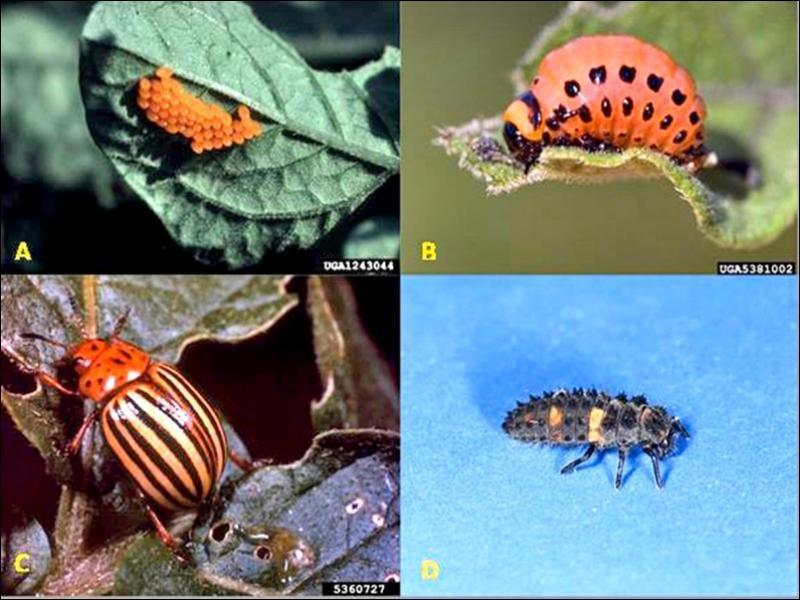hrosc: (41, 320, 250, 547)
